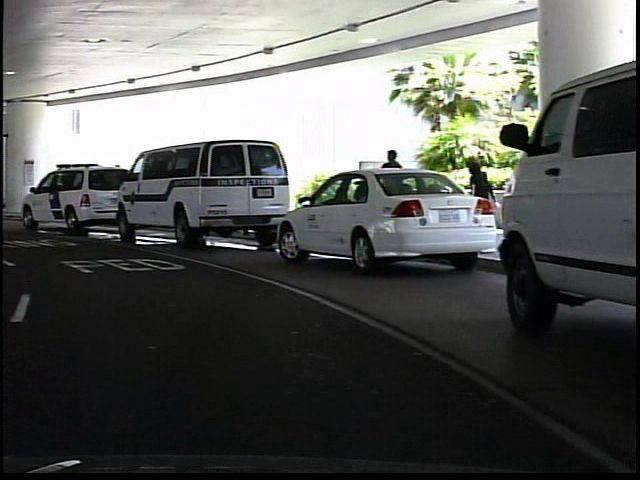person: (375, 145, 409, 235), (460, 154, 494, 244)
